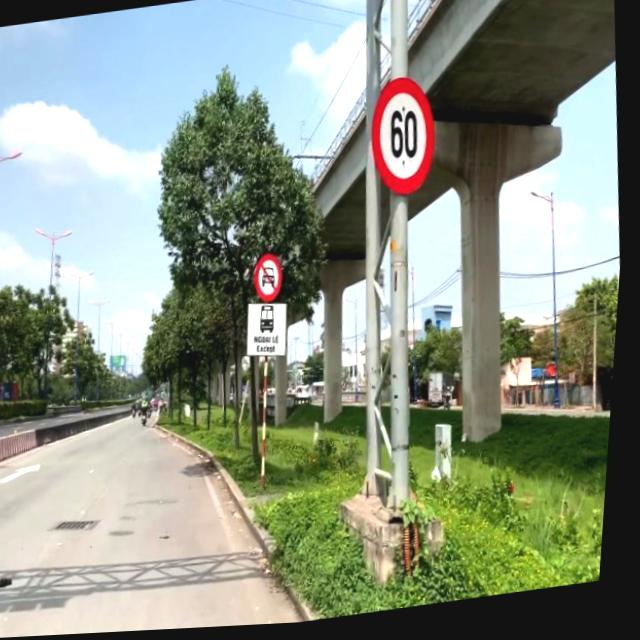Cam xe oto: (254, 253, 289, 307)
Toc do toi da cho phep: (366, 71, 448, 207)
